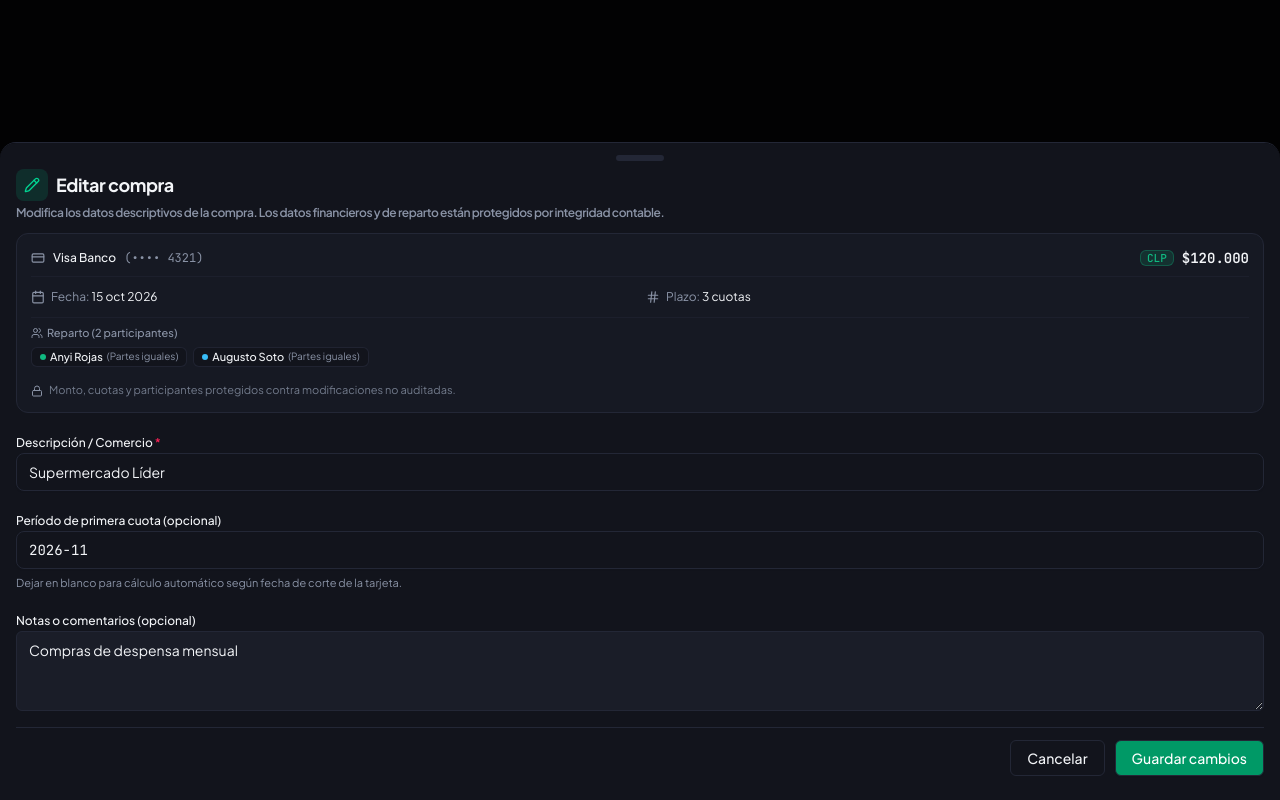
Test: ExpenseEditDialog Component (Spec 005 T6) › renderiza en Drawer en móvil (< 768px) con protección dismissible={!isDirty}
Expected: the heading "Editar compra" is shown, [56,170,174,198]
Modificar el formulario activa isDirty
Step 1. Type " Express" into the field labelled "Descripción / Comercio *" → (640, 472), box [16,452,1264,490]
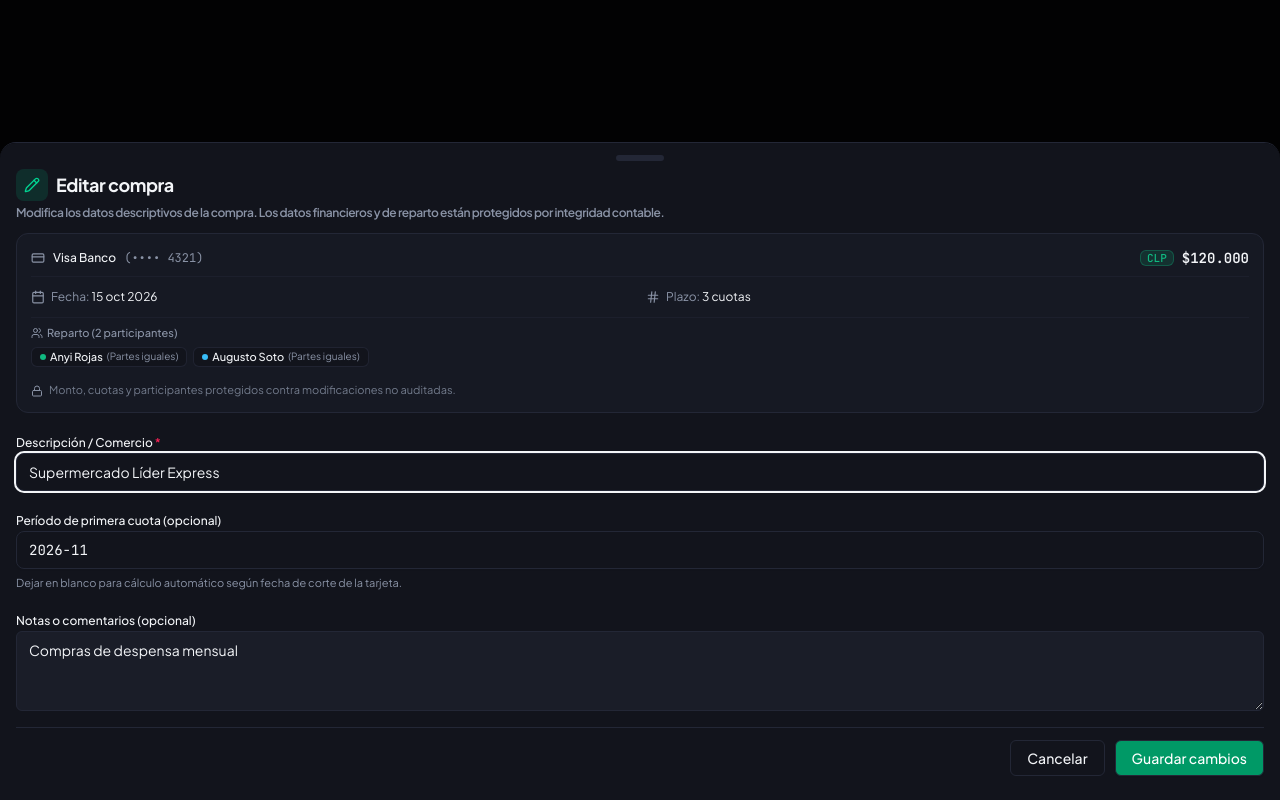
Result: the field labelled "Descripción / Comercio *" holds "Supermercado Líder Express" at [16,452,1264,490]
